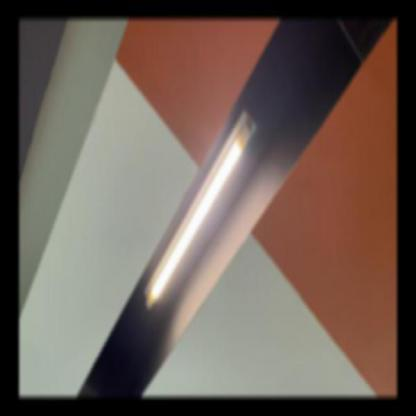light_on: (138, 102, 263, 316)
